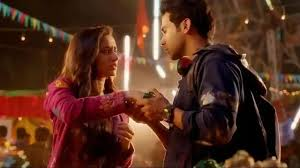Bad: (46, 1, 245, 168)
